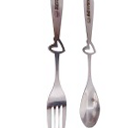Fork: (35, 1, 78, 128)
